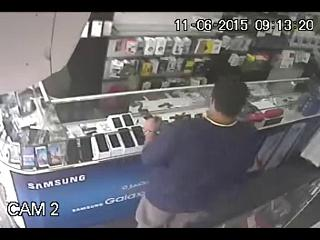Normal: (133, 78, 264, 226)
